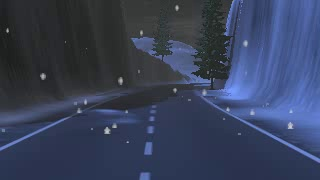Lane: (1, 83, 319, 179)
